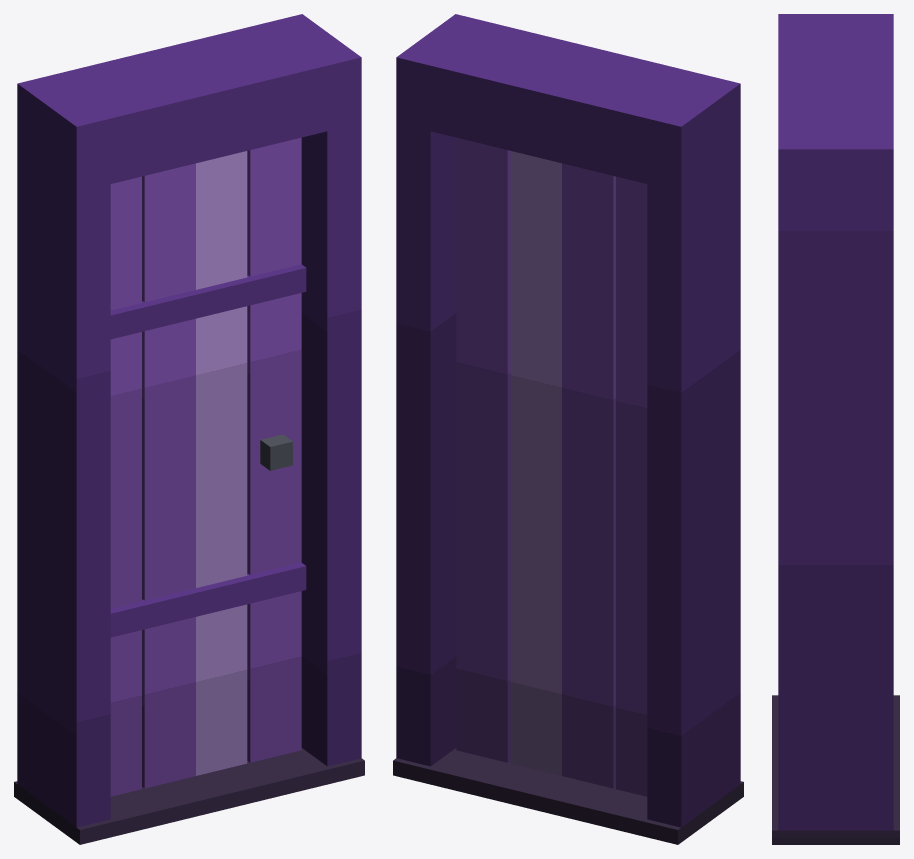
File: model_46_crystal.glb
3 views of the same model, side by side, from view 1: azimuth 30°, elevation 25°; view 2: azimuth 150°, elevation 25°; view 3: azimuth 270°, elevation 25° (orthographic). The views are drawn at different scales.
Size of the model in its own units: 1 by 2.4 by 0.4.
1 material, 1 textured.
